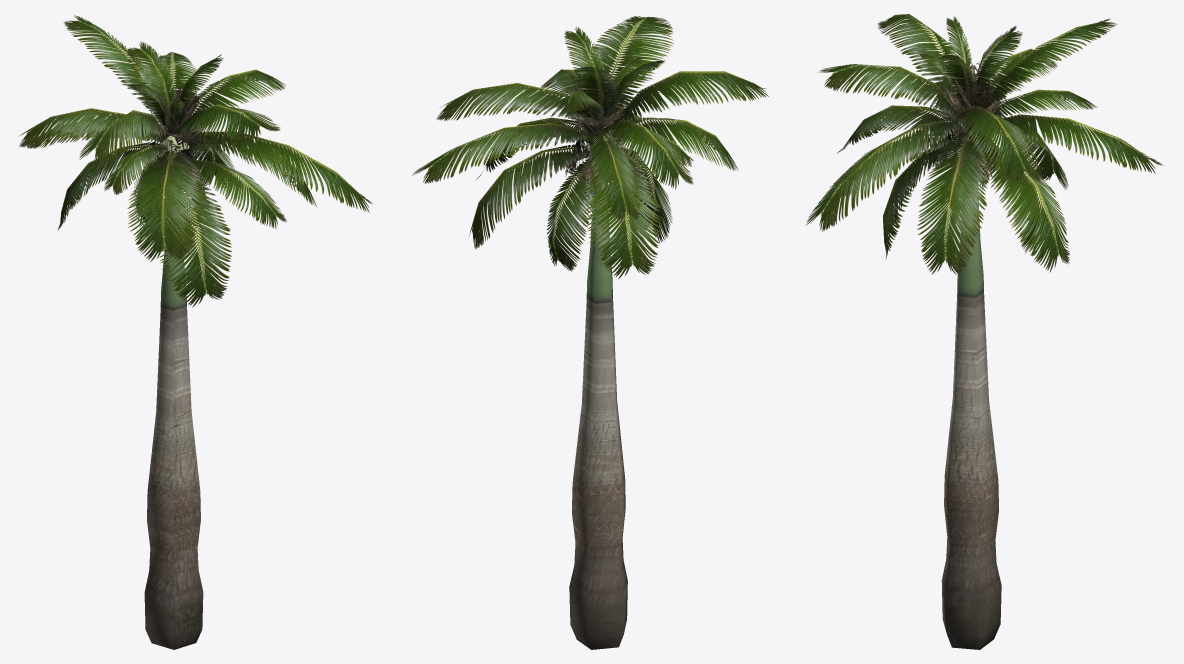
Rendered from Palm1_VAR3.glb.
The picture shows the model from 3 angles, left to right: view 1: azimuth 30°, elevation 25°; view 2: azimuth 150°, elevation 25°; view 3: azimuth 270°, elevation 25°; orthographic projection. The views are drawn at different scales.
Parts seen in each view (by area): view 1: Palm1_VAR3; view 2: Palm1_VAR3; view 3: Palm1_VAR3.
Part boxes in pixels (box(x1,y1,x2,y2)): Palm1_VAR3: box(19, 15, 372, 649); Palm1_VAR3: box(411, 16, 768, 649); Palm1_VAR3: box(805, 14, 1163, 649).
Bounding box in the file's own units: 2.76 × 5.62 × 3.11.
1 material, 1 textured.
